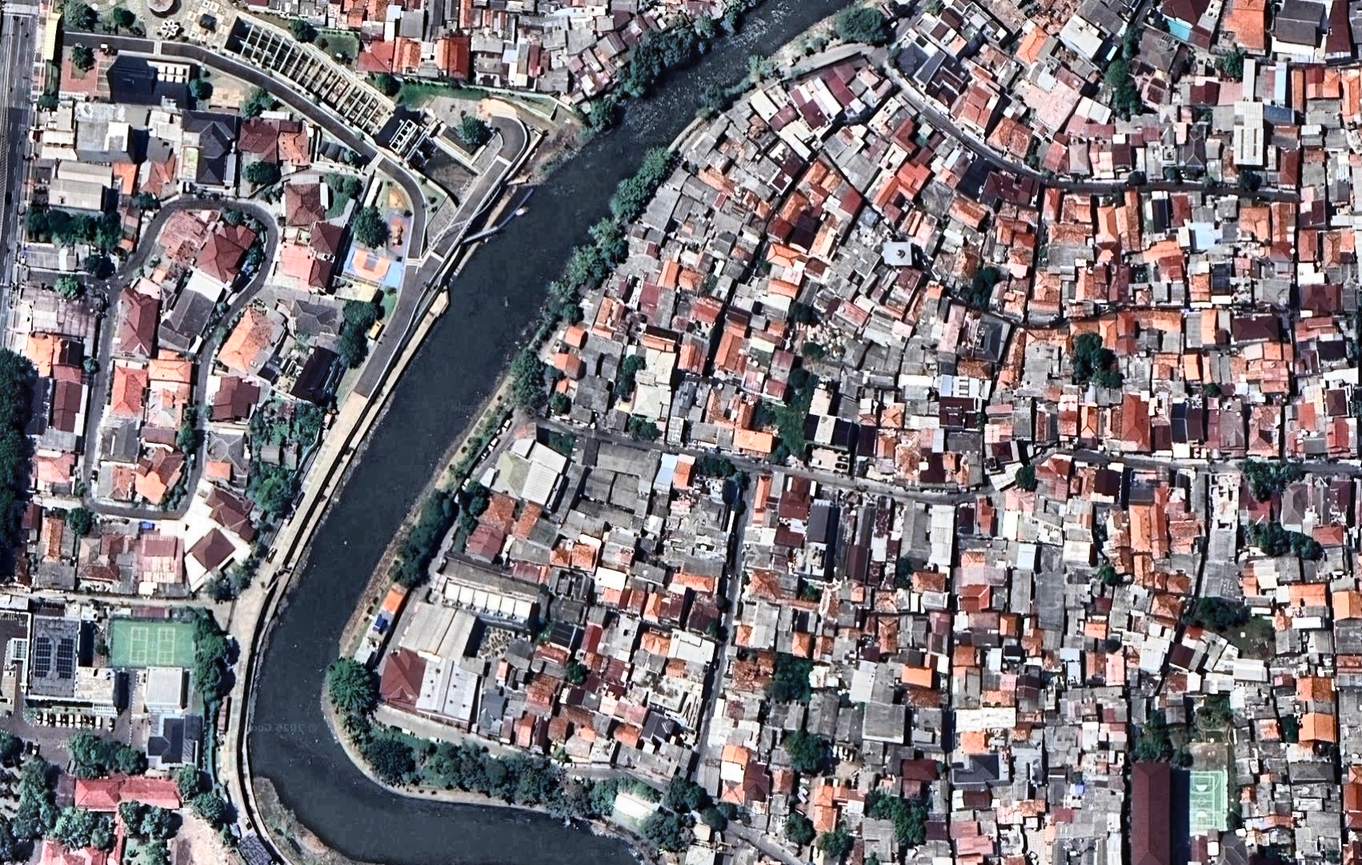building: (212, 8, 433, 168), (148, 495, 250, 596), (212, 301, 290, 386), (154, 273, 226, 363), (183, 475, 266, 542), (620, 666, 706, 729), (103, 53, 194, 111), (399, 601, 477, 668), (25, 617, 81, 710), (178, 113, 239, 197), (264, 288, 349, 348), (440, 580, 536, 633), (1126, 760, 1174, 865), (188, 215, 256, 289), (122, 434, 190, 508), (191, 368, 262, 437), (908, 3, 987, 65), (14, 286, 99, 343), (414, 658, 482, 728), (152, 198, 216, 268), (947, 75, 1012, 141), (1267, 0, 1332, 65), (111, 285, 161, 364), (1198, 527, 1247, 602), (917, 54, 977, 114), (290, 346, 345, 411), (130, 522, 183, 585), (1055, 14, 1115, 68), (200, 431, 249, 497), (943, 232, 991, 298), (376, 648, 426, 711), (867, 496, 902, 586), (889, 203, 945, 259), (145, 715, 203, 768), (71, 119, 139, 164), (1031, 79, 1084, 136), (976, 165, 1042, 210), (136, 138, 185, 198), (987, 113, 1042, 166), (1132, 26, 1188, 78), (827, 235, 881, 288), (546, 462, 589, 528), (1220, 0, 1271, 55), (968, 37, 1023, 88), (572, 496, 642, 536), (1033, 546, 1065, 633), (723, 164, 783, 210), (613, 743, 677, 786), (816, 115, 866, 170), (1018, 339, 1063, 400), (865, 646, 908, 709), (74, 530, 124, 584), (595, 440, 660, 481), (668, 493, 736, 532), (1293, 810, 1344, 862), (867, 174, 917, 227), (825, 500, 858, 580), (479, 448, 531, 498), (878, 262, 923, 319), (848, 205, 900, 254), (1009, 20, 1059, 70), (141, 378, 190, 429), (1199, 398, 1241, 457), (1303, 470, 1346, 527), (805, 211, 850, 265), (1118, 467, 1173, 511), (1232, 101, 1267, 169), (776, 113, 825, 161), (280, 176, 327, 226), (508, 435, 568, 474), (595, 611, 640, 663), (859, 309, 911, 354), (1279, 475, 1324, 527), (107, 361, 147, 419), (1190, 626, 1239, 673), (121, 774, 184, 810), (990, 760, 1037, 808), (72, 665, 121, 711), (996, 326, 1030, 392), (981, 439, 1024, 491), (268, 242, 315, 289), (96, 417, 142, 465), (910, 46, 956, 94), (970, 312, 1012, 364), (24, 241, 90, 274), (1186, 0, 1227, 53), (760, 348, 798, 405), (517, 463, 562, 511), (1150, 0, 1211, 35), (1246, 403, 1284, 459), (743, 568, 802, 604), (1081, 142, 1127, 188), (141, 669, 188, 714), (1056, 808, 1122, 840), (737, 339, 774, 395), (799, 414, 855, 451), (1299, 154, 1327, 228), (822, 178, 867, 224), (711, 332, 750, 385), (1076, 0, 1129, 39), (700, 385, 743, 433), (638, 182, 680, 231), (898, 502, 932, 562), (951, 754, 1009, 789), (1127, 503, 1166, 555), (1051, 684, 1096, 729), (792, 150, 835, 197), (856, 258, 898, 306), (1323, 0, 1355, 63), (48, 383, 87, 434), (1069, 264, 1108, 315), (48, 180, 108, 213), (839, 150, 883, 195), (914, 175, 958, 220), (1120, 393, 1152, 454), (1134, 70, 1178, 114), (463, 521, 506, 566), (943, 190, 989, 232), (238, 116, 279, 163), (630, 382, 671, 429), (1303, 547, 1356, 583), (805, 495, 843, 545), (946, 0, 996, 38), (580, 335, 623, 379), (899, 335, 943, 378), (861, 703, 906, 745), (635, 281, 676, 327), (1242, 786, 1290, 825), (926, 504, 955, 568), (954, 705, 1018, 734), (11, 333, 54, 376), (305, 215, 346, 260), (803, 691, 839, 742), (1323, 369, 1362, 416), (550, 538, 599, 575), (890, 38, 932, 81), (572, 372, 616, 413), (858, 341, 902, 382), (72, 775, 122, 811), (955, 155, 995, 200), (777, 475, 815, 522), (740, 525, 778, 572), (613, 249, 664, 284), (277, 121, 314, 169), (1293, 377, 1324, 434), (666, 631, 715, 667), (1115, 189, 1143, 252), (802, 75, 842, 119), (860, 818, 899, 863), (684, 591, 722, 637), (1229, 313, 1287, 343), (707, 718, 761, 750), (748, 601, 781, 653), (1291, 781, 1343, 814), (1325, 417, 1361, 464), (1218, 399, 1247, 457), (93, 463, 134, 504), (1124, 689, 1165, 730), (581, 43, 620, 86), (607, 475, 650, 514), (1209, 474, 1240, 528), (30, 449, 76, 485), (726, 656, 772, 692), (1270, 202, 1298, 261), (476, 491, 517, 531), (765, 137, 806, 177), (932, 218, 973, 258), (599, 531, 638, 573), (690, 755, 729, 797), (1245, 553, 1283, 596), (1233, 358, 1270, 402), (232, 828, 276, 865), (1227, 710, 1281, 740), (1016, 512, 1065, 545), (546, 569, 592, 604), (684, 423, 734, 455), (712, 694, 762, 726), (1135, 634, 1173, 676), (474, 690, 507, 738), (561, 511, 605, 547), (892, 431, 923, 482), (1060, 573, 1095, 618), (56, 161, 114, 188), (506, 538, 552, 572), (854, 60, 894, 99), (817, 66, 855, 107), (1139, 140, 1177, 181), (909, 709, 945, 752), (951, 821, 994, 857), (675, 333, 710, 377), (1054, 838, 1111, 865), (1040, 244, 1091, 274), (939, 302, 969, 353), (890, 118, 929, 157), (638, 712, 675, 753), (634, 348, 675, 385), (1178, 347, 1214, 389), (989, 0, 1031, 36), (588, 297, 623, 340), (1111, 584, 1154, 619), (761, 242, 808, 274), (1091, 461, 1125, 505), (657, 584, 690, 629), (612, 307, 650, 346), (796, 98, 834, 137), (941, 140, 978, 180), (1067, 461, 1103, 502), (1282, 65, 1312, 114), (985, 537, 1027, 572), (148, 351, 195, 382), (520, 673, 560, 709), (678, 174, 719, 209), (1255, 63, 1290, 104), (1074, 95, 1115, 130), (938, 375, 991, 402), (1081, 784, 1123, 818), (805, 376, 837, 420), (1298, 284, 1342, 316), (728, 273, 765, 311), (1135, 561, 1173, 598), (1002, 486, 1047, 517), (731, 428, 773, 461), (785, 212, 818, 254), (1121, 354, 1154, 396), (1328, 476, 1361, 518), (1149, 591, 1191, 624), (418, 36, 448, 82), (612, 793, 658, 823), (1113, 111, 1159, 141), (1079, 750, 1128, 778), (596, 31, 632, 69), (1177, 125, 1208, 169), (507, 501, 540, 542), (940, 398, 981, 431), (1178, 77, 1219, 110), (1167, 643, 1208, 676), (1327, 152, 1352, 206), (117, 195, 141, 251), (864, 97, 901, 133), (1062, 528, 1098, 565), (674, 213, 712, 248), (1170, 470, 1205, 508), (354, 39, 393, 73), (386, 6, 425, 40), (1023, 60, 1062, 94), (43, 844, 106, 865), (1293, 315, 1342, 342), (818, 269, 858, 302), (1252, 277, 1293, 309), (904, 284, 935, 326), (1134, 307, 1184, 333), (1336, 674, 1361, 726), (501, 636, 537, 672), (900, 684, 948, 711), (1029, 270, 1065, 306), (1162, 192, 1199, 227), (1168, 519, 1205, 554), (978, 15, 1015, 50), (559, 22, 597, 56), (1058, 192, 1096, 226), (556, 684, 599, 714), (1026, 327, 1072, 355), (1010, 396, 1038, 442), (695, 164, 734, 197), (1304, 66, 1343, 99), (798, 541, 831, 580), (599, 659, 631, 699), (638, 323, 678, 355), (1240, 491, 1280, 523), (1284, 430, 1328, 459), (1076, 774, 1127, 799), (834, 707, 865, 748), (1046, 221, 1093, 248), (616, 16, 652, 51), (895, 157, 931, 192), (776, 191, 811, 227), (848, 659, 876, 704), (687, 295, 724, 329), (918, 292, 952, 329), (1006, 712, 1040, 749), (1015, 81, 1052, 115), (750, 470, 772, 527), (303, 256, 335, 295), (1160, 690, 1192, 729), (37, 517, 64, 563), (1028, 0, 1082, 23), (741, 762, 772, 802), (1298, 713, 1338, 744), (667, 570, 718, 594), (581, 467, 614, 504), (693, 528, 731, 560), (1097, 686, 1129, 724), (1107, 262, 1134, 307), (1208, 261, 1235, 306), (1058, 387, 1080, 442), (1103, 507, 1131, 550), (1229, 684, 1272, 712), (1303, 98, 1343, 128), (1034, 401, 1060, 447), (560, 85, 594, 120), (662, 520, 696, 555), (1011, 728, 1045, 763), (1151, 394, 1187, 427), (1147, 503, 1169, 557), (1285, 744, 1339, 766), (1292, 339, 1324, 376), (956, 567, 1015, 587), (860, 168, 891, 206), (989, 217, 1027, 248), (1321, 229, 1352, 267), (1019, 616, 1047, 658), (145, 111, 184, 141), (1045, 744, 1084, 774), (1234, 740, 1287, 762), (1242, 204, 1271, 244), (567, 434, 601, 468), (52, 338, 87, 371), (526, 516, 561, 549), (877, 141, 910, 176), (761, 214, 794, 249), (1258, 362, 1291, 397), (1287, 760, 1335, 784), (1009, 570, 1034, 616), (1209, 104, 1246, 135), (656, 740, 694, 770), (1340, 67, 1361, 121), (258, 440, 297, 469), (808, 286, 842, 319), (977, 235, 1012, 267), (883, 744, 915, 779), (1218, 833, 1253, 865), (651, 450, 677, 493), (1142, 238, 1185, 264), (840, 334, 871, 370), (842, 579, 878, 610), (1211, 642, 1242, 678), (628, 560, 669, 587), (1188, 471, 1211, 519), (1061, 633, 1109, 656), (548, 598, 586, 627), (552, 705, 590, 734), (843, 789, 868, 833), (1206, 139, 1231, 183), (744, 151, 777, 184), (1001, 246, 1034, 279), (572, 66, 604, 100), (757, 291, 792, 322), (1156, 554, 1203, 577), (689, 475, 729, 502), (844, 543, 871, 583), (735, 602, 759, 647), (951, 668, 981, 704), (1161, 670, 1204, 695), (112, 555, 138, 596), (668, 380, 694, 421), (1286, 583, 1327, 609), (856, 132, 889, 164), (1061, 110, 1093, 143), (1063, 498, 1096, 530), (1180, 623, 1214, 654), (1026, 300, 1065, 327), (926, 249, 956, 284), (835, 298, 870, 328), (717, 741, 752, 771), (872, 616, 898, 656), (1043, 135, 1069, 175), (1097, 313, 1123, 353), (1016, 685, 1056, 711), (392, 40, 420, 77), (973, 494, 996, 539), (38, 430, 81, 454), (1292, 653, 1335, 677), (36, 562, 74, 589), (984, 391, 1016, 423), (1189, 833, 1221, 865), (600, 270, 631, 303), (703, 227, 736, 258), (138, 424, 177, 450), (1066, 139, 1092, 178), (1296, 676, 1335, 702), (503, 46, 527, 88), (511, 560, 547, 588), (682, 555, 724, 579), (1149, 191, 1173, 233), (685, 382, 710, 422), (1095, 204, 1120, 244), (1066, 56, 1103, 83), (705, 273, 735, 306), (493, 663, 527, 692), (956, 728, 990, 757), (1277, 149, 1301, 190), (903, 403, 938, 431), (1185, 272, 1213, 307), (1333, 620, 1361, 655), (956, 585, 991, 613), (612, 700, 648, 727), (1036, 455, 1072, 482), (630, 648, 667, 674), (1269, 653, 1306, 679), (747, 89, 778, 120), (609, 718, 641, 748), (765, 764, 795, 796), (535, 67, 568, 96), (501, 688, 530, 721), (638, 627, 671, 656), (1121, 629, 1150, 662), (1151, 353, 1185, 381), (1145, 617, 1179, 645), (108, 815, 127, 865), (9, 551, 34, 589), (782, 698, 807, 736), (1101, 405, 1123, 448), (572, 649, 607, 676), (718, 198, 753, 225), (591, 586, 630, 610), (1080, 119, 1116, 145), (1219, 147, 1243, 186), (739, 114, 769, 145), (767, 103, 798, 133), (1230, 276, 1260, 307), (1135, 326, 1166, 356), (836, 367, 865, 399), (1155, 254, 1187, 283), (671, 454, 696, 491), (473, 54, 501, 87), (588, 735, 616, 768), (832, 630, 859, 664), (21, 505, 40, 553), (1040, 186, 1064, 224), (1080, 405, 1101, 448), (926, 781, 948, 822), (547, 621, 577, 651), (766, 265, 802, 290), (108, 162, 136, 194), (982, 416, 1014, 444), (549, 353, 582, 380), (1232, 660, 1269, 684), (592, 567, 626, 593), (827, 312, 861, 338), (731, 839, 765, 865), (1089, 582, 1115, 616), (854, 505, 875, 547), (641, 549, 685, 569), (945, 432, 983, 455), (724, 104, 753, 134), (562, 734, 593, 762), (533, 643, 569, 667), (1001, 292, 1028, 324), (1192, 195, 1219, 227), (772, 548, 804, 575), (1253, 717, 1285, 744), (448, 38, 468, 81), (818, 582, 840, 621), (1339, 725, 1361, 764), (732, 394, 755, 431), (981, 670, 1018, 693), (1296, 228, 1321, 262), (1190, 222, 1219, 251), (1185, 253, 1214, 282), (876, 431, 896, 473), (951, 790, 991, 811), (1186, 401, 1206, 443), (1331, 591, 1361, 619), (1274, 628, 1304, 656), (732, 140, 759, 171), (995, 800, 1026, 827), (512, 712, 534, 750), (656, 259, 682, 291), (773, 524, 805, 550), (1049, 726, 1081, 752), (1259, 261, 1295, 284), (919, 449, 944, 482), (1205, 242, 1238, 267), (1163, 499, 1196, 524), (1084, 652, 1109, 685), (1047, 774, 1072, 807), (911, 572, 945, 596), (955, 359, 992, 381), (765, 167, 793, 196), (1305, 630, 1336, 656), (1326, 263, 1361, 286), (720, 302, 752, 327), (747, 799, 772, 831), (1092, 263, 1113, 301), (853, 425, 877, 458), (1315, 339, 1348, 363), (1203, 672, 1239, 694), (764, 81, 792, 109), (832, 57, 860, 85), (1275, 556, 1303, 584), (899, 665, 933, 688), (794, 278, 820, 308), (1271, 124, 1301, 150), (529, 659, 566, 680), (882, 243, 913, 268), (1170, 401, 1188, 444), (763, 278, 798, 300), (1063, 652, 1085, 687), (708, 211, 740, 235), (1348, 0, 1361, 59), (531, 717, 551, 755), (622, 278, 645, 311), (1275, 696, 1308, 719), (662, 166, 689, 194), (1013, 543, 1040, 571), (848, 289, 877, 315), (1216, 194, 1242, 223), (1270, 679, 1299, 705), (578, 624, 603, 654), (1242, 58, 1259, 102), (1079, 688, 1101, 722), (640, 593, 664, 624), (1349, 154, 1361, 216), (897, 374, 938, 392), (1037, 479, 1069, 502), (1313, 523, 1345, 546), (751, 127, 778, 154), (704, 113, 730, 141), (818, 166, 844, 194), (1238, 341, 1266, 367), (860, 741, 882, 774), (668, 194, 693, 223), (810, 636, 834, 666), (1185, 309, 1203, 349), (951, 645, 981, 669), (684, 844, 718, 865), (1105, 653, 1126, 687), (807, 666, 839, 688), (840, 97, 867, 123), (801, 256, 828, 282), (855, 401, 881, 428), (1214, 308, 1232, 347), (1103, 0, 1142, 18), (747, 328, 782, 348), (1113, 333, 1141, 358), (341, 2, 365, 31), (931, 166, 960, 190), (1324, 128, 1353, 152), (1150, 422, 1173, 452), (955, 501, 974, 537), (901, 760, 935, 780), (299, 2, 325, 28), (586, 712, 612, 738), (691, 132, 717, 158), (675, 268, 702, 293), (722, 122, 749, 147), (934, 133, 959, 160), (1082, 614, 1109, 639), (528, 48, 549, 80), (622, 590, 646, 618), (812, 806, 836, 834), (1216, 81, 1244, 105), (1234, 256, 1262, 280), (1261, 758, 1289, 782), (1234, 758, 1258, 786), (546, 716, 569, 745), (1263, 341, 1292, 364), (426, 0, 444, 37), (1152, 381, 1189, 399), (1295, 606, 1332, 624), (1240, 565, 1260, 598), (1165, 573, 1195, 595), (1111, 547, 1133, 577), (1067, 607, 1089, 637), (1056, 68, 1087, 89), (704, 147, 730, 172), (786, 82, 811, 108), (672, 292, 696, 319), (658, 239, 682, 266), (769, 472, 793, 499), (1140, 674, 1167, 698), (982, 689, 1016, 708), (1117, 311, 1140, 339), (837, 604, 865, 627), (496, 11, 516, 43), (1263, 105, 1295, 125), (1304, 699, 1336, 719), (1111, 143, 1133, 172), (1339, 286, 1361, 315), (987, 280, 1008, 310), (1214, 352, 1233, 385), (1342, 782, 1361, 815), (1342, 832, 1361, 865), (684, 149, 710, 173), (769, 795, 795, 819), (1109, 609, 1133, 635), (1159, 331, 1186, 354), (1001, 828, 1024, 855), (968, 611, 999, 631), (1296, 262, 1324, 284), (1236, 243, 1274, 259), (1201, 309, 1217, 347), (1001, 510, 1020, 542), (595, 692, 619, 717), (562, 325, 587, 349), (717, 136, 742, 160), (885, 106, 909, 131), (895, 589, 919, 614), (1301, 124, 1326, 148), (1096, 240, 1121, 264), (1070, 317, 1100, 337), (879, 404, 905, 427), (872, 591, 898, 614), (1041, 630, 1064, 656), (1041, 818, 1064, 844), (59, 524, 76, 559), (895, 616, 913, 649), (790, 632, 812, 659), (865, 372, 896, 391), (458, 654, 486, 675), (1133, 554, 1153, 583), (50, 366, 82, 384), (1259, 813, 1295, 829), (765, 317, 791, 339), (1166, 281, 1188, 307), (989, 586, 1011, 612), (55, 107, 74, 137), (665, 417, 684, 447), (539, 30, 566, 51), (874, 776, 901, 797), (902, 385, 935, 402), (131, 607, 171, 621), (1094, 387, 1122, 407), (780, 597, 820, 611), (42, 128, 73, 146), (1244, 593, 1275, 611), (1081, 721, 1099, 752), (603, 408, 627, 431), (719, 259, 743, 282), (720, 781, 743, 805), (999, 613, 1022, 637), (1022, 656, 1045, 680), (682, 661, 707, 683), (1151, 280, 1173, 305), (566, 403, 592, 424), (928, 611, 949, 637), (650, 492, 670, 519), (1255, 779, 1275, 806), (919, 592, 947, 611), (909, 621, 928, 649), (585, 606, 608, 629), (641, 514, 664, 537), (806, 183, 829, 206), (42, 144, 75, 160), (1329, 213, 1362, 229), (1060, 276, 1076, 309), (1329, 576, 1362, 592), (955, 611, 971, 644), (1105, 832, 1121, 865), (727, 246, 752, 267), (731, 235, 756, 256), (1003, 638, 1024, 663), (736, 224, 762, 244), (847, 838, 866, 865), (662, 658, 685, 680), (751, 199, 774, 221), (1220, 221, 1241, 245), (719, 761, 744, 781), (1240, 800, 1265, 820), (515, 28, 541, 47), (722, 319, 748, 338), (977, 810, 996, 836), (610, 8, 632, 30), (926, 129, 947, 152), (913, 144, 934, 167), (1292, 617, 1329, 630), (359, 23, 383, 43), (514, 421, 538, 441), (967, 454, 982, 486), (971, 631, 999, 648), (1011, 233, 1036, 252), (922, 821, 947, 840), (1040, 654, 1066, 672), (326, 1, 342, 30), (578, 672, 600, 693), (638, 533, 660, 554), (693, 251, 714, 273), (845, 77, 867, 98), (926, 632, 947, 654), (1274, 609, 1295, 631), (745, 312, 768, 332), (1133, 284, 1153, 307), (860, 614, 879, 638), (774, 631, 793, 655), (1021, 799, 1045, 818), (1336, 655, 1361, 673), (470, 39, 502, 53), (516, 15, 544, 31), (942, 451, 956, 483), (738, 191, 759, 212), (689, 823, 711, 843), (686, 200, 708, 220), (746, 215, 768, 235), (813, 786, 833, 808), (937, 352, 957, 374), (1107, 727, 1127, 749), (365, 1, 388, 20), (1015, 206, 1038, 225), (1, 595, 30, 610), (269, 2, 298, 17), (649, 7, 667, 31), (1161, 123, 1178, 148), (499, 717, 514, 745), (1008, 276, 1029, 296), (1126, 129, 1146, 150), (1131, 615, 1152, 635), (445, 1, 458, 33), (569, 16, 595, 32), (959, 551, 985, 567), (814, 622, 837, 640), (959, 540, 993, 552), (986, 648, 1003, 672), (1133, 147, 1147, 176), (676, 248, 696, 268), (901, 780, 921, 800), (1178, 225, 1194, 250), (1052, 808, 1077, 824), (1302, 146, 1324, 164), (993, 203, 1016, 220), (104, 604, 130, 619), (479, 12, 494, 38), (544, 16, 568, 32), (1267, 829, 1291, 845), (593, 14, 613, 33), (627, 222, 647, 241), (1245, 821, 1264, 841), (641, 13, 659, 34), (643, 228, 664, 246), (611, 0, 636, 15), (955, 854, 989, 865), (565, 55, 584, 74), (735, 100, 754, 119), (553, 8, 583, 20), (727, 183, 745, 203), (1178, 105, 1196, 125), (1162, 105, 1182, 123), (710, 191, 727, 212), (1344, 810, 1361, 831), (956, 455, 967, 487), (1174, 123, 1190, 145), (1348, 128, 1361, 155), (79, 605, 98, 623), (63, 603, 82, 621), (1082, 386, 1100, 405), (461, 1, 471, 35), (156, 585, 184, 597), (537, 1, 565, 13), (549, 51, 566, 70), (857, 646, 878, 661), (1346, 764, 1361, 785), (670, 315, 688, 332), (917, 121, 934, 139), (831, 785, 848, 803), (922, 652, 938, 671), (1141, 126, 1160, 142), (1275, 585, 1290, 605), (951, 810, 976, 822), (906, 650, 922, 668), (1002, 854, 1028, 865), (554, 376, 569, 395), (936, 654, 950, 674), (1032, 756, 1043, 781), (875, 123, 892, 139), (932, 429, 943, 452), (920, 428, 932, 449), (1274, 789, 1291, 803), (710, 259, 723, 277), (644, 242, 658, 258), (585, 6, 603, 18), (932, 855, 953, 865), (137, 585, 154, 597), (1104, 723, 1126, 732), (584, 0, 607, 8), (488, 1, 506, 11), (640, 743, 655, 755), (1274, 784, 1291, 794), (522, 1, 535, 14), (506, 1, 521, 12), (471, 0, 487, 10), (570, 0, 584, 6)
tree: (383, 481, 464, 592), (601, 138, 682, 229), (609, 24, 689, 110), (350, 723, 434, 794), (492, 749, 566, 816), (21, 206, 124, 251), (1236, 439, 1307, 504), (67, 726, 148, 780), (200, 547, 267, 612), (241, 458, 306, 523), (190, 610, 233, 706), (416, 738, 486, 796), (14, 755, 60, 838), (860, 787, 932, 840), (544, 775, 616, 827), (558, 237, 618, 298), (691, 68, 760, 121), (459, 747, 525, 802), (1178, 592, 1253, 639), (1066, 329, 1120, 393), (323, 657, 380, 716), (635, 804, 698, 857), (280, 398, 332, 455), (1097, 56, 1142, 121), (783, 725, 836, 780), (956, 258, 1008, 314), (51, 807, 115, 851), (345, 201, 398, 252), (656, 19, 711, 68), (831, 2, 891, 45), (1128, 713, 1179, 763), (445, 430, 492, 484), (1246, 528, 1324, 560), (585, 212, 634, 262), (767, 654, 814, 706), (450, 106, 499, 155), (774, 805, 823, 854), (660, 775, 711, 818), (607, 349, 646, 403), (813, 819, 858, 865), (0, 358, 30, 426), (511, 349, 545, 408), (332, 320, 372, 370), (119, 805, 179, 838), (780, 365, 821, 413), (233, 83, 280, 122), (186, 787, 231, 827), (604, 772, 661, 803), (171, 759, 213, 801), (542, 276, 580, 321), (0, 486, 24, 556), (0, 429, 27, 490), (61, 499, 101, 540), (793, 22, 834, 62), (50, 267, 89, 307), (748, 399, 790, 436), (156, 480, 195, 518), (249, 412, 290, 448), (474, 400, 510, 441), (455, 481, 492, 519), (0, 817, 30, 863), (698, 801, 740, 833), (284, 11, 320, 47), (586, 95, 622, 131), (341, 299, 384, 329), (689, 8, 724, 42), (895, 808, 926, 846), (125, 840, 171, 865), (370, 67, 404, 99), (786, 300, 822, 330), (340, 714, 377, 743), (1217, 45, 1247, 80), (242, 160, 280, 187), (696, 454, 737, 479), (62, 0, 97, 29), (82, 252, 117, 281), (1118, 23, 1143, 63), (764, 439, 796, 470), (1093, 562, 1125, 593), (627, 415, 662, 443), (321, 171, 363, 194), (184, 73, 215, 104), (561, 658, 592, 688), (452, 508, 481, 537), (214, 821, 242, 851), (0, 730, 24, 765), (175, 414, 197, 452), (544, 429, 577, 454), (800, 337, 830, 363), (1236, 167, 1264, 194), (1161, 165, 1197, 186), (1022, 144, 1049, 172), (750, 57, 779, 82), (242, 242, 267, 269), (257, 182, 286, 205), (220, 208, 251, 229), (71, 44, 95, 71), (722, 2, 746, 29), (1015, 462, 1037, 490), (110, 6, 135, 29), (341, 147, 366, 170), (135, 192, 163, 212), (915, 0, 950, 14), (548, 393, 570, 415), (1200, 383, 1234, 397), (251, 537, 272, 559), (733, 468, 754, 490), (36, 92, 60, 111), (544, 365, 568, 384), (1125, 169, 1147, 187), (1346, 337, 1361, 361), (83, 356, 99, 373), (316, 35, 330, 50)
